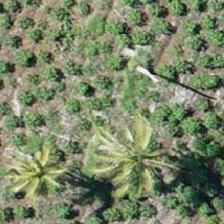coconut_tree: (86, 117, 176, 207), (0, 125, 84, 215)
